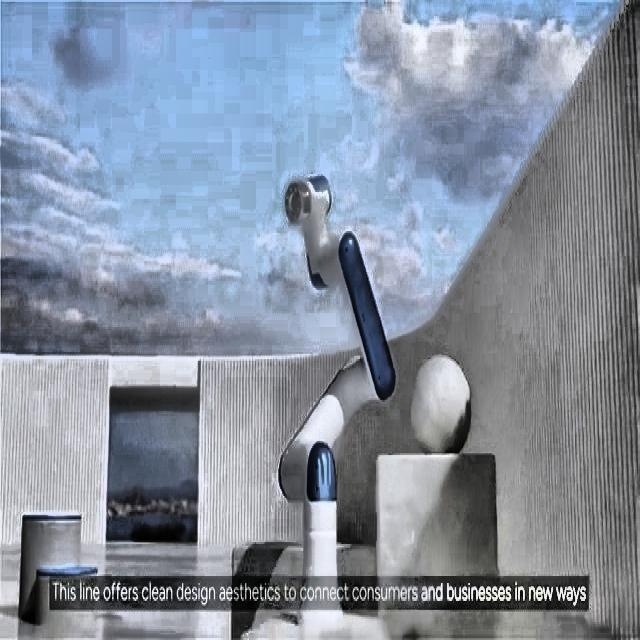robot: (277, 170, 396, 572)
